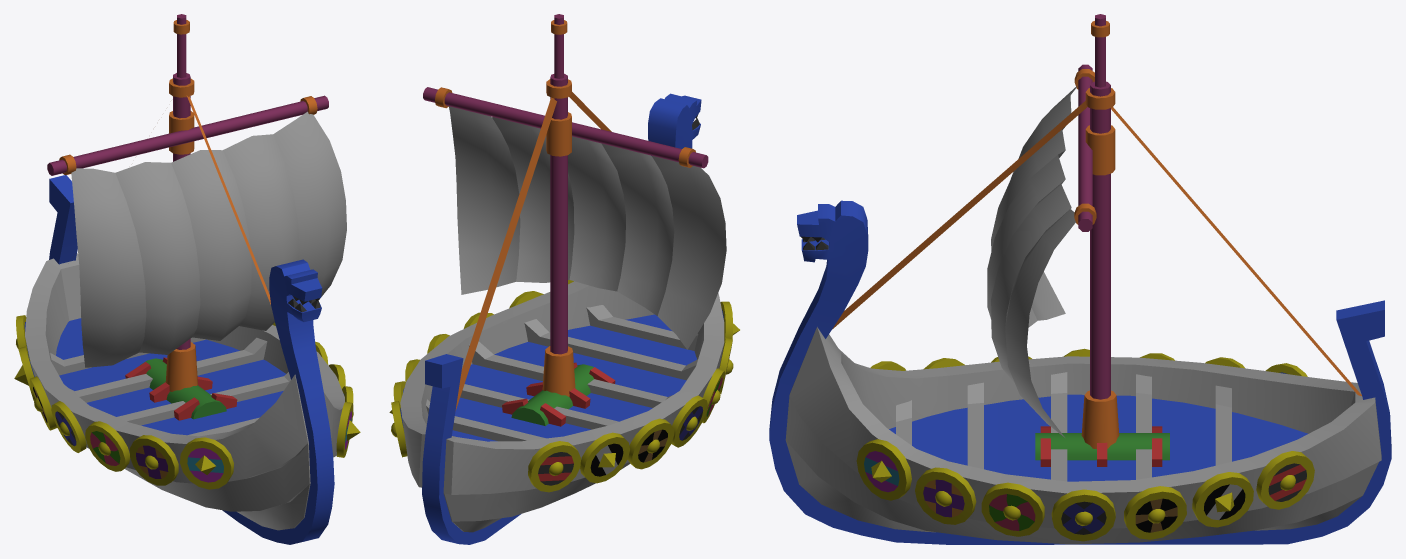
Rendered from Drakkar_mm.fbx.
3 views of the same model, side by side, from view 1: azimuth 30°, elevation 25°; view 2: azimuth 150°, elevation 25°; view 3: azimuth 270°, elevation 25° (orthographic). The views are drawn at different scales.
Visible parts, largest first — view 1: Drakkar, Sails, Upgrade_02, Upgrade_01; view 2: Drakkar, Sails, Upgrade_02, Upgrade_01; view 3: Drakkar, Upgrade_02, Sails, Upgrade_01.
Part boxes in pixels (x1=…): Drakkar: x1=25, y1=14, x2=344, y2=544; Sails: x1=71, y1=111, x2=346, y2=367; Upgrade_02: x1=14, y1=315, x2=360, y2=489; Upgrade_01: x1=50, y1=337, x2=290, y2=436; Drakkar: x1=400, y1=14, x2=724, y2=544; Sails: x1=449, y1=106, x2=726, y2=349; Upgrade_02: x1=389, y1=280, x2=739, y2=492; Upgrade_01: x1=426, y1=305, x2=698, y2=441; Drakkar: x1=769, y1=14, x2=1391, y2=544; Upgrade_02: x1=856, y1=348, x2=1314, y2=541; Sails: x1=987, y1=86, x2=1077, y2=437; Upgrade_01: x1=896, y1=372, x2=1231, y2=481.
Size of the model in its own units: 521 by 825 by 889.
